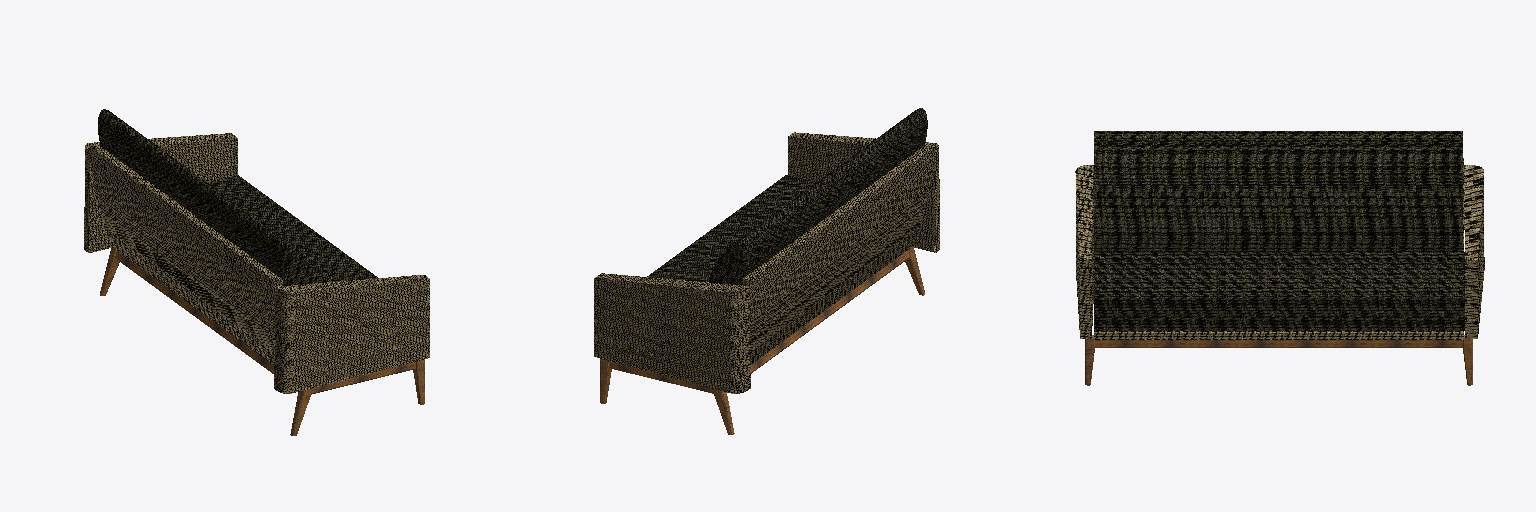
3 views of the same model, side by side, from view 1: azimuth 30°, elevation 25°; view 2: azimuth 150°, elevation 25°; view 3: azimuth 270°, elevation 25° (orthographic).
Parts seen in each view (by area): view 1: mesh176.001_mesh176-geometry, mesh89.001_mesh89-geometry, mesh187.001_mesh187-geometry, mesh189.001_mesh189-geometry, mesh191.001_mesh191-geometry, mesh193.001_mesh193-geometry, mesh117.001_mesh117-geometry, mesh156.001_mesh156-geometry, mesh154.001_mesh154-geometry, mesh1.001_mesh1-geometry, mesh135.001_mesh135-geometry; view 2: mesh176.001_mesh176-geometry, mesh187.001_mesh187-geometry, mesh89.001_mesh89-geometry, mesh193.001_mesh193-geometry, mesh189.001_mesh189-geometry, mesh191.001_mesh191-geometry, mesh117.001_mesh117-geometry, mesh135.001_mesh135-geometry, mesh154.001_mesh154-geometry, mesh178.001_mesh178-geometry, mesh156.001_mesh156-geometry; view 3: mesh191.001_mesh191-geometry, mesh189.001_mesh189-geometry, mesh193.001_mesh193-geometry, mesh156.001_mesh156-geometry, mesh135.001_mesh135-geometry, mesh117.001_mesh117-geometry, mesh176.001_mesh176-geometry, mesh187.001_mesh187-geometry, mesh174.001_mesh174-geometry, mesh89.001_mesh89-geometry.
Boxes of the visible parts, <box> form: mesh176.001_mesh176-geometry: <box>89,144,282,364</box>; mesh89.001_mesh89-geometry: <box>274,275,429,393</box>; mesh187.001_mesh187-geometry: <box>84,133,237,252</box>; mesh189.001_mesh189-geometry: <box>221,199,317,285</box>; mesh191.001_mesh191-geometry: <box>159,154,230,235</box>; mesh193.001_mesh193-geometry: <box>98,109,168,190</box>; mesh117.001_mesh117-geometry: <box>270,220,361,276</box>; mesh156.001_mesh156-geometry: <box>208,175,298,227</box>; mesh154.001_mesh154-geometry: <box>115,251,273,373</box>; mesh1.001_mesh1-geometry: <box>311,362,415,394</box>; mesh135.001_mesh135-geometry: <box>316,266,377,282</box>; mesh176.001_mesh176-geometry: <box>742,143,935,364</box>; mesh187.001_mesh187-geometry: <box>594,273,750,393</box>; mesh89.001_mesh89-geometry: <box>788,132,939,252</box>; mesh193.001_mesh193-geometry: <box>707,198,803,284</box>; mesh189.001_mesh189-geometry: <box>856,108,927,189</box>; mesh191.001_mesh191-geometry: <box>793,153,865,234</box>; mesh117.001_mesh117-geometry: <box>664,220,754,275</box>; mesh135.001_mesh135-geometry: <box>725,175,816,226</box>; mesh154.001_mesh154-geometry: <box>750,250,909,373</box>; mesh178.001_mesh178-geometry: <box>609,361,713,393</box>; mesh156.001_mesh156-geometry: <box>647,265,709,281</box>; mesh191.001_mesh191-geometry: <box>1217,131,1340,251</box>; mesh189.001_mesh189-geometry: <box>1094,131,1216,251</box>; mesh193.001_mesh193-geometry: <box>1340,131,1462,251</box>; mesh156.001_mesh156-geometry: <box>1341,252,1464,330</box>; mesh135.001_mesh135-geometry: <box>1094,252,1217,330</box>; mesh117.001_mesh117-geometry: <box>1218,252,1340,330</box>; mesh176.001_mesh176-geometry: <box>1094,158,1463,339</box>; mesh187.001_mesh187-geometry: <box>1464,165,1484,338</box>; mesh174.001_mesh174-geometry: <box>1095,338,1464,347</box>; mesh89.001_mesh89-geometry: <box>1075,165,1093,338</box>.
Size of the model in its own units: 0.353 by 0.4243 by 0.8338.
3 materials, 3 textured.